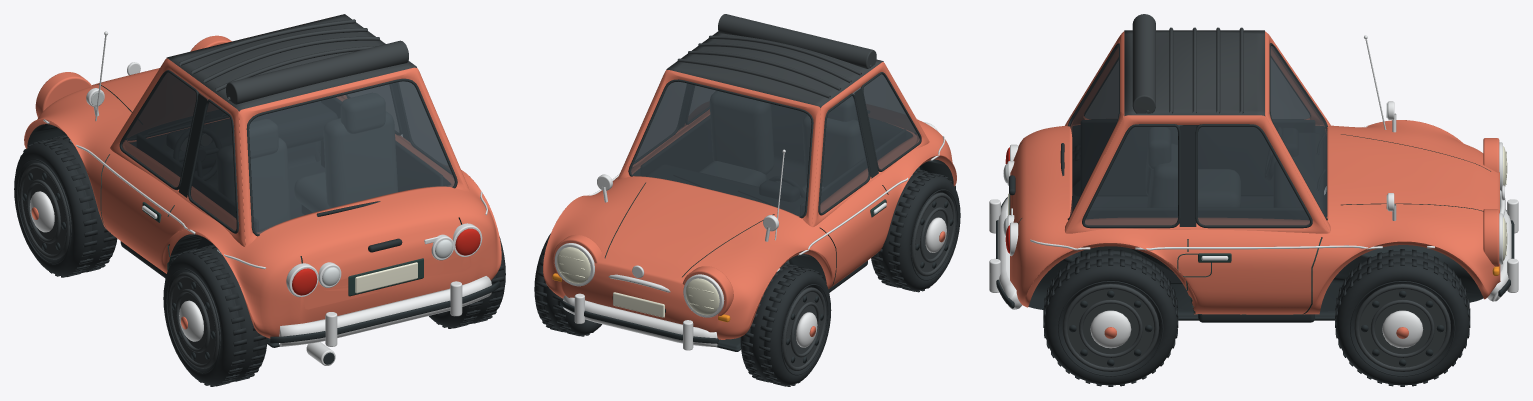
The model's file is pebble.fbx.
The picture shows the model from 3 angles, left to right: view 1: azimuth 30°, elevation 25°; view 2: azimuth 150°, elevation 25°; view 3: azimuth 270°, elevation 25°; orthographic projection. The views are drawn at different scales.
Visible parts, largest first — view 1: Body, Wheel_RL_Mesh, Wheel_FL_Mesh, Wheel_RR_Mesh; view 2: Body, Wheel_FL_Mesh, Wheel_RL_Mesh, Wheel_FR_Mesh; view 3: Body, Wheel_RR_Mesh, Wheel_FR_Mesh.
Part boxes in pixels (bbox=[...]): Body: bbox=[24, 14, 501, 365]; Wheel_RL_Mesh: bbox=[163, 244, 267, 386]; Wheel_FL_Mesh: bbox=[14, 135, 117, 277]; Wheel_RR_Mesh: bbox=[429, 237, 505, 328]; Body: bbox=[543, 14, 956, 351]; Wheel_FL_Mesh: bbox=[740, 263, 831, 386]; Wheel_RL_Mesh: bbox=[871, 169, 960, 292]; Wheel_FR_Mesh: bbox=[534, 233, 601, 336]; Body: bbox=[989, 14, 1518, 322]; Wheel_RR_Mesh: bbox=[1043, 249, 1178, 386]; Wheel_FR_Mesh: bbox=[1335, 249, 1470, 386].
Bounding box in the file's own units: 203 × 176 × 316.
